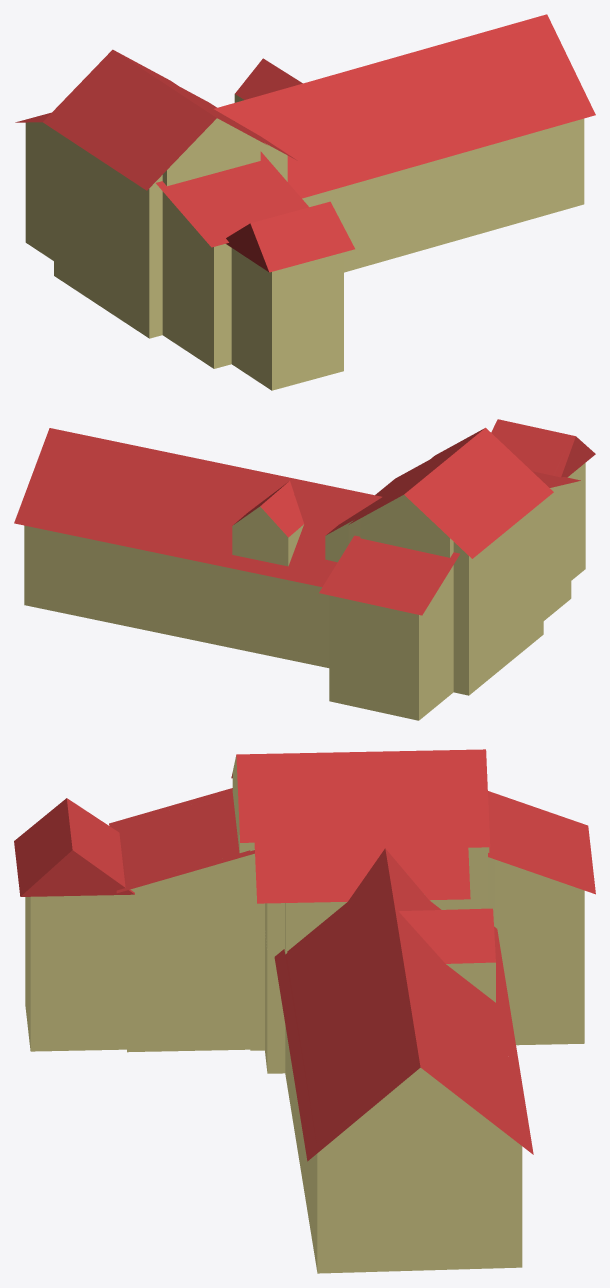
The picture shows the model from 3 angles, top to bottom: view 1: azimuth 30°, elevation 25°; view 2: azimuth 150°, elevation 25°; view 3: azimuth 270°, elevation 25°; orthographic projection. The views are drawn at different scales.
Parts seen in each view (by area): view 1: group_7, group_11, group_5, group_15, group_3, group_23, group_21, group_13, group_19, group_8, group_22; view 2: group_7, group_11, group_5, group_19, group_3, group_17, group_23, group_13, group_9, group_15, group_8, group_18 (+1 smaller); view 3: group_7, group_11, group_3, group_23, group_15, group_19, group_5, group_13, group_21, group_17, group_8, group_9 (+2 smaller).
Part boxes in pixels (left/top/right/bottom): group_7: left=214, top=14, right=595, bottom=198; group_11: left=302, top=118, right=584, bottom=272; group_5: left=54, top=118, right=287, bottom=338; group_15: left=224, top=244, right=343, bottom=390; group_3: left=43, top=49, right=297, bottom=190; group_23: left=167, top=196, right=224, bottom=368; group_21: left=156, top=151, right=308, bottom=240; group_13: left=226, top=201, right=354, bottom=272; group_19: left=25, top=122, right=53, bottom=260; group_8: left=235, top=58, right=302, bottom=99; group_22: left=156, top=152, right=294, bottom=247; group_7: left=14, top=428, right=381, bottom=586; group_11: left=24, top=525, right=329, bottom=667; group_5: left=325, top=495, right=543, bottom=695; group_19: left=329, top=571, right=449, bottom=720; group_3: left=326, top=427, right=553, bottom=558; group_17: left=319, top=535, right=459, bottom=615; group_23: left=543, top=483, right=571, bottom=620; group_13: left=491, top=420, right=595, bottom=477; group_9: left=232, top=506, right=303, bottom=566; group_15: left=567, top=463, right=585, bottom=580; group_8: left=234, top=481, right=303, bottom=537; group_18: left=319, top=536, right=457, bottom=613; group_7: left=274, top=848, right=533, bottom=1161; group_11: left=286, top=1030, right=522, bottom=1273; group_3: left=231, top=749, right=489, bottom=903; group_23: left=123, top=858, right=239, bottom=1051; group_15: left=25, top=894, right=134, bottom=1052; group_19: left=489, top=857, right=584, bottom=1045; group_5: left=232, top=755, right=489, bottom=1076; group_13: left=14, top=798, right=134, bottom=896; group_21: left=116, top=789, right=254, bottom=893; group_17: left=488, top=791, right=595, bottom=894; group_8: left=399, top=908, right=495, bottom=963; group_9: left=446, top=962, right=495, bottom=1002.
Size of the model in its own units: 50.52 by 40.44 by 20.49.
